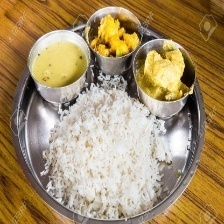sabzi: (131, 37, 196, 103)
